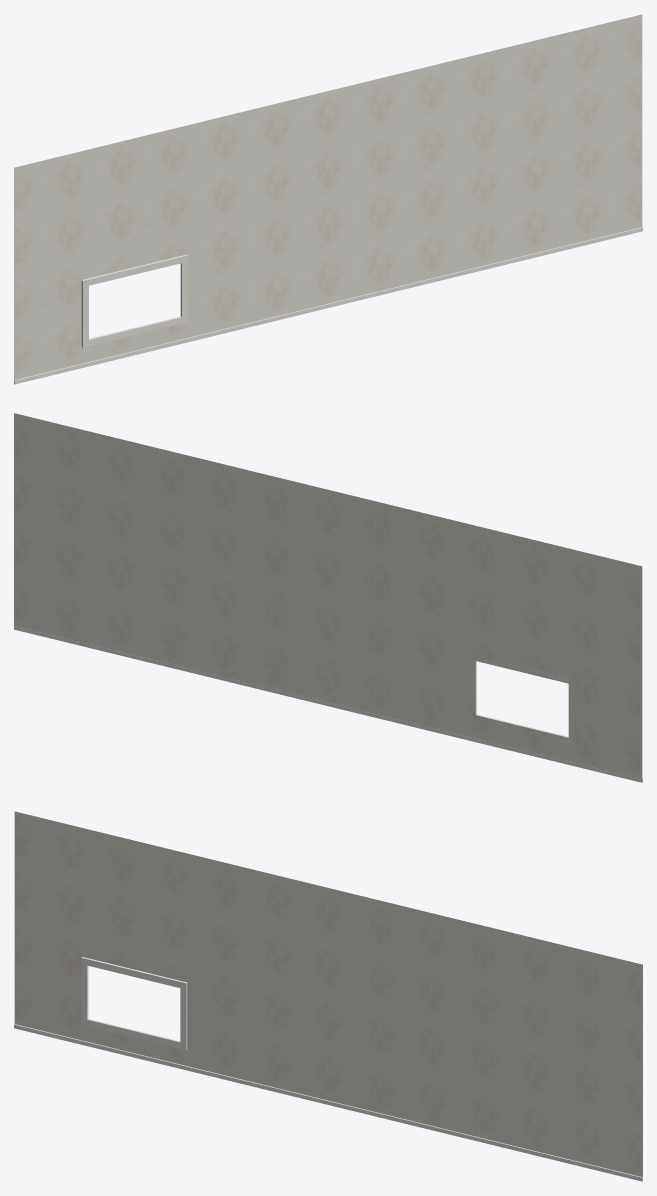
3 renders of one model, top to bottom at view 1: azimuth 30°, elevation 25°; view 2: azimuth 150°, elevation 25°; view 3: azimuth 330°, elevation 25°, orthographic.
Visible parts, largest first — view 1: jx_wm_24_d3ef729e; view 2: jx_wm_24_d3ef729e; view 3: jx_wm_24_d3ef729e.
Part boxes in pixels (x1,y1,x2,y2): jx_wm_24_d3ef729e: (14, 14, 642, 384); jx_wm_24_d3ef729e: (14, 413, 642, 782); jx_wm_24_d3ef729e: (14, 811, 642, 1181).
Bounding box in the file's own units: 24.3 × 8 × 0.086.
2 materials, 2 textured.
